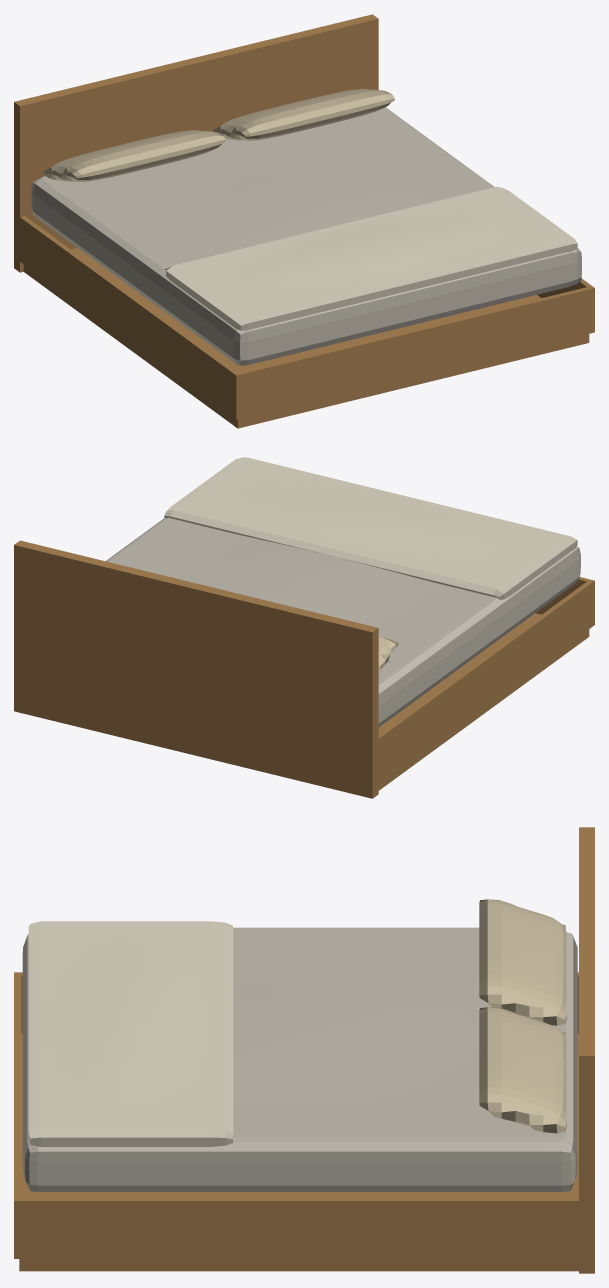
The model's file is HIN-PLT-king.glb.
3 views of the same model, one above another, from view 1: azimuth 30°, elevation 25°; view 2: azimuth 150°, elevation 25°; view 3: azimuth 270°, elevation 25° (orthographic). The views are drawn at different scales.
Parts seen in each view (by area): view 1: mattress:pbr, throw:pbr, head:pbr, foot:pbr, rail-l:pbr, plinth:pbr, pillow-l:pbr, pillow-r:pbr; view 2: head:pbr, mattress:pbr, throw:pbr, rail-l:pbr, plinth:pbr; view 3: mattress:pbr, throw:pbr, rail-r:pbr, plinth:pbr, pillow-r:pbr, pillow-l:pbr, head:pbr, foot:pbr.
Part boxes in pixels (bbox=[...]): mattress:pbr: bbox=[31, 107, 581, 365]; throw:pbr: bbox=[164, 186, 577, 330]; head:pbr: bbox=[14, 14, 378, 272]; foot:pbr: bbox=[238, 287, 589, 418]; rail-l:pbr: bbox=[20, 216, 241, 419]; plinth:pbr: bbox=[23, 248, 589, 428]; pillow-l:pbr: bbox=[43, 130, 225, 181]; pillow-r:pbr: bbox=[212, 89, 394, 140]; head:pbr: bbox=[14, 540, 378, 798]; mattress:pbr: bbox=[106, 518, 580, 727]; throw:pbr: bbox=[164, 457, 577, 599]; rail-l:pbr: bbox=[378, 579, 594, 782]; plinth:pbr: bbox=[378, 613, 589, 790]; mattress:pbr: bbox=[22, 927, 577, 1191]; throw:pbr: bbox=[28, 921, 233, 1146]; rail-r:pbr: bbox=[14, 1198, 578, 1258]; plinth:pbr: bbox=[19, 1033, 578, 1271]; pillow-r:pbr: bbox=[479, 1007, 566, 1133]; pillow-l:pbr: bbox=[479, 899, 566, 1025]; head:pbr: bbox=[579, 827, 594, 1273]; foot:pbr: bbox=[14, 975, 21, 1197].
Size of the model in its own units: 2.03 by 0.9 by 2.18.
